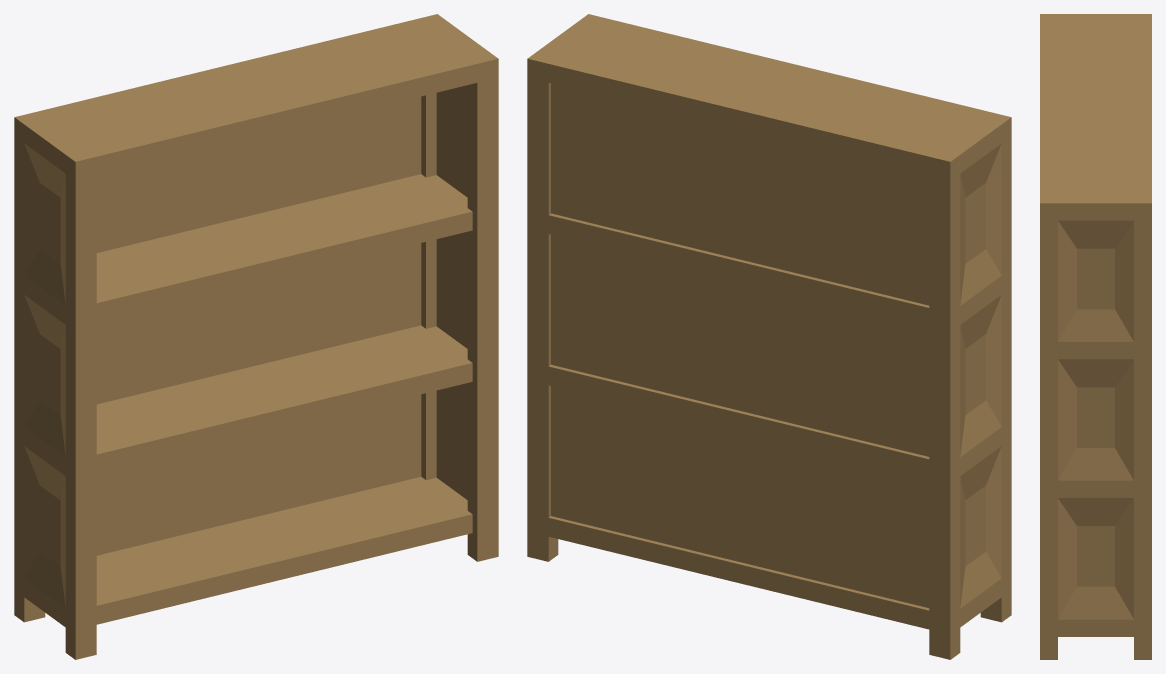
Rendered from bookcase_wide.glb.
3 renders of one model, left to right at view 1: azimuth 30°, elevation 25°; view 2: azimuth 150°, elevation 25°; view 3: azimuth 270°, elevation 25°, orthographic. The views are drawn at different scales.
Parts seen in each view (by area): view 1: bookcase_wide; view 2: bookcase_wide; view 3: bookcase_wide.
Boxes of the visible parts, x1,y1,x2,y2 form: bookcase_wide: (14,14,498,659); bookcase_wide: (527,14,1011,659); bookcase_wide: (1040,14,1151,659).
Bounding box in the file's own units: 1.6 × 1.8 × 0.4.
